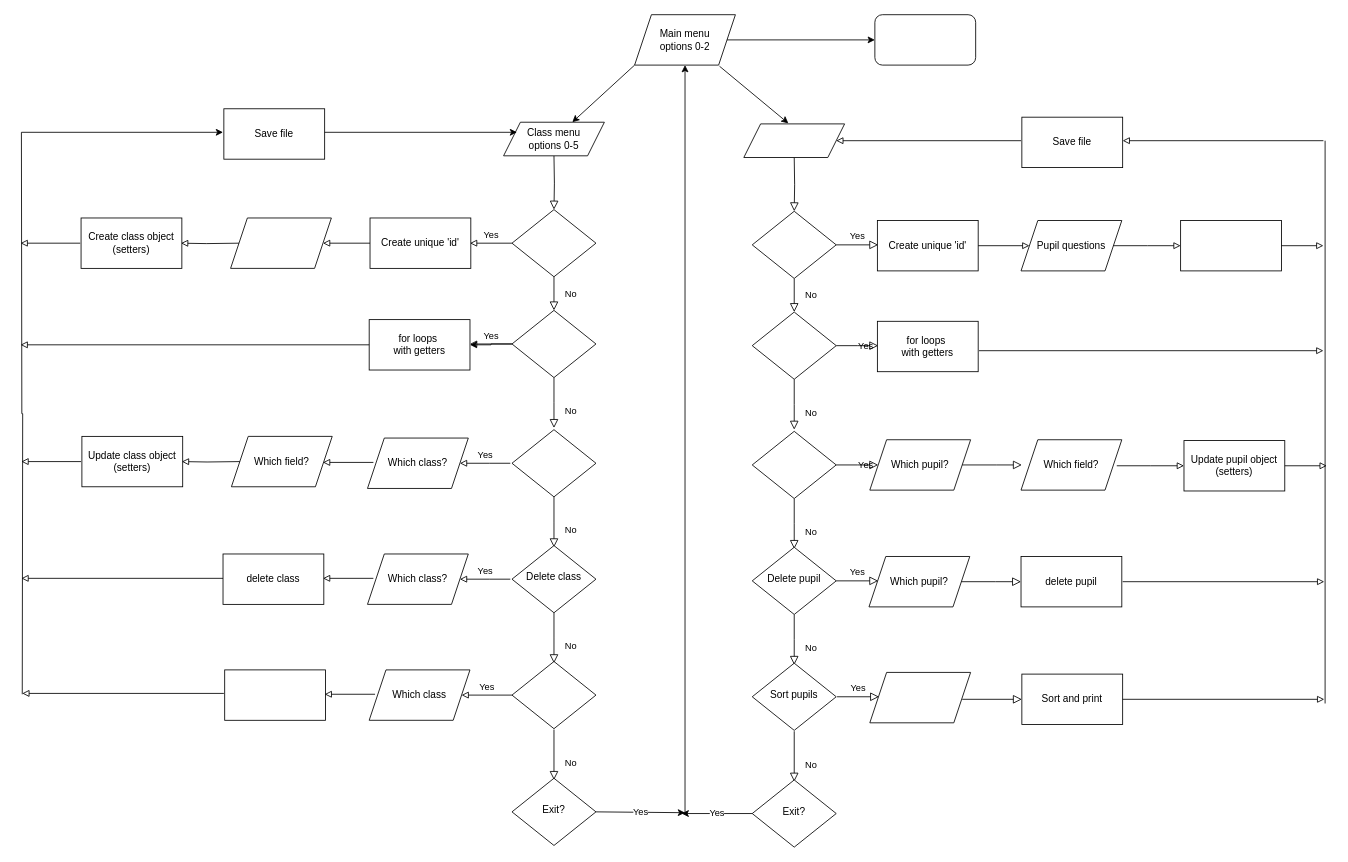
Image size: 1348x862. Some labels were removed from this diagram. Each missing label, with the centre of its shape:
"Class questions" belongs at (x=280, y=242).
"Create class?" belongs at (x=553, y=243).
"Create pupil object (setters)" belongs at (x=1230, y=245).
"Create pupil?" belongs at (x=793, y=244).
"Exit program" belongs at (x=925, y=39).
"Pupil Menu Choice 0-5" belongs at (x=794, y=140).
"Read list of classes" belongs at (x=553, y=344).
"Retrieve list of pupils" belongs at (x=793, y=345).
"Show who's in a class" belongs at (x=553, y=695).
"Sort and print (getters in a for loop)" belongs at (x=275, y=694).
"Sort how?" belongs at (x=920, y=697).
"Update list of classes" belongs at (x=553, y=463).
"Update list of pupils" belongs at (x=793, y=464).
